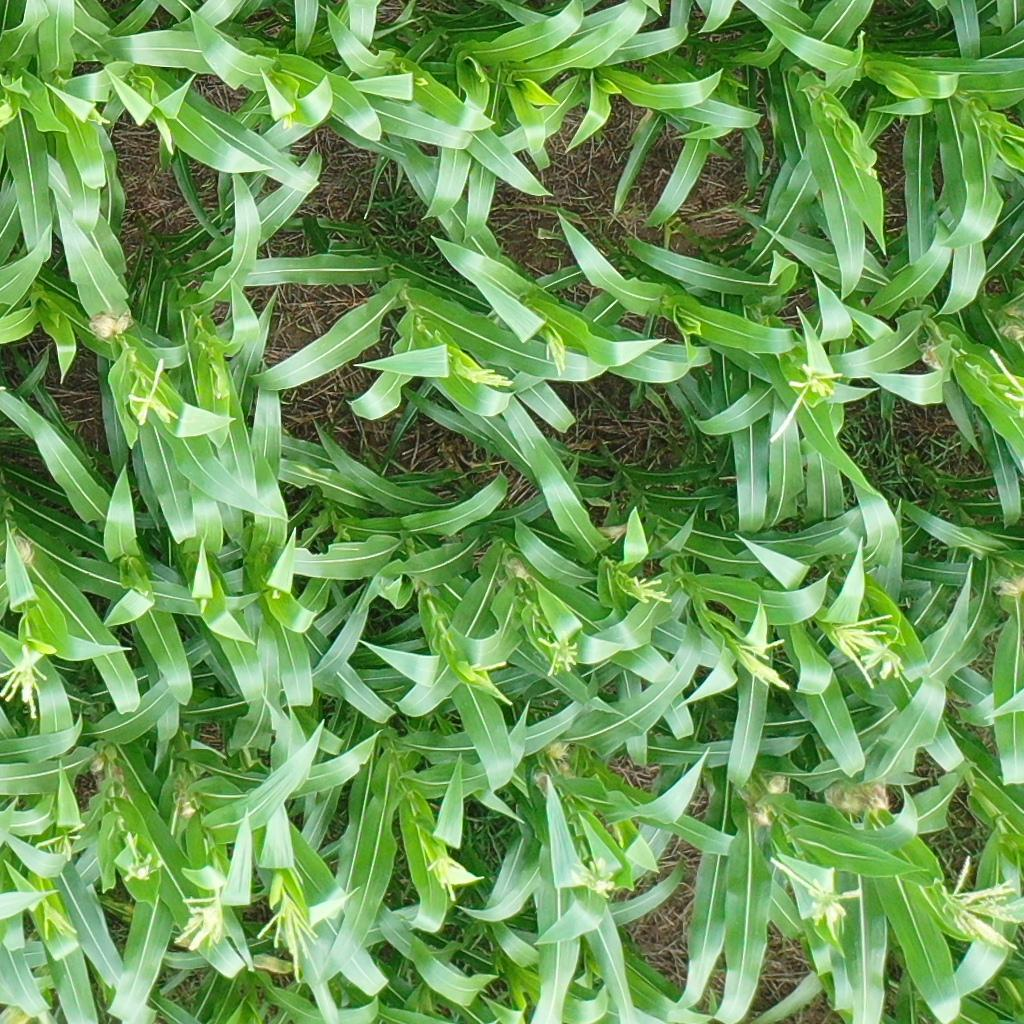Tassel: (937, 852, 1021, 957), (767, 855, 866, 940), (256, 887, 323, 989), (824, 610, 907, 690), (768, 360, 843, 442), (1, 638, 56, 715), (729, 629, 793, 693), (125, 356, 181, 425), (424, 851, 487, 909), (172, 895, 231, 955), (440, 346, 513, 391), (983, 345, 1024, 415), (467, 652, 517, 707), (30, 897, 87, 943), (528, 630, 583, 676), (570, 859, 619, 908), (34, 820, 90, 862), (617, 568, 673, 607), (539, 319, 570, 376), (124, 853, 157, 886), (80, 106, 113, 128), (279, 110, 298, 136)
